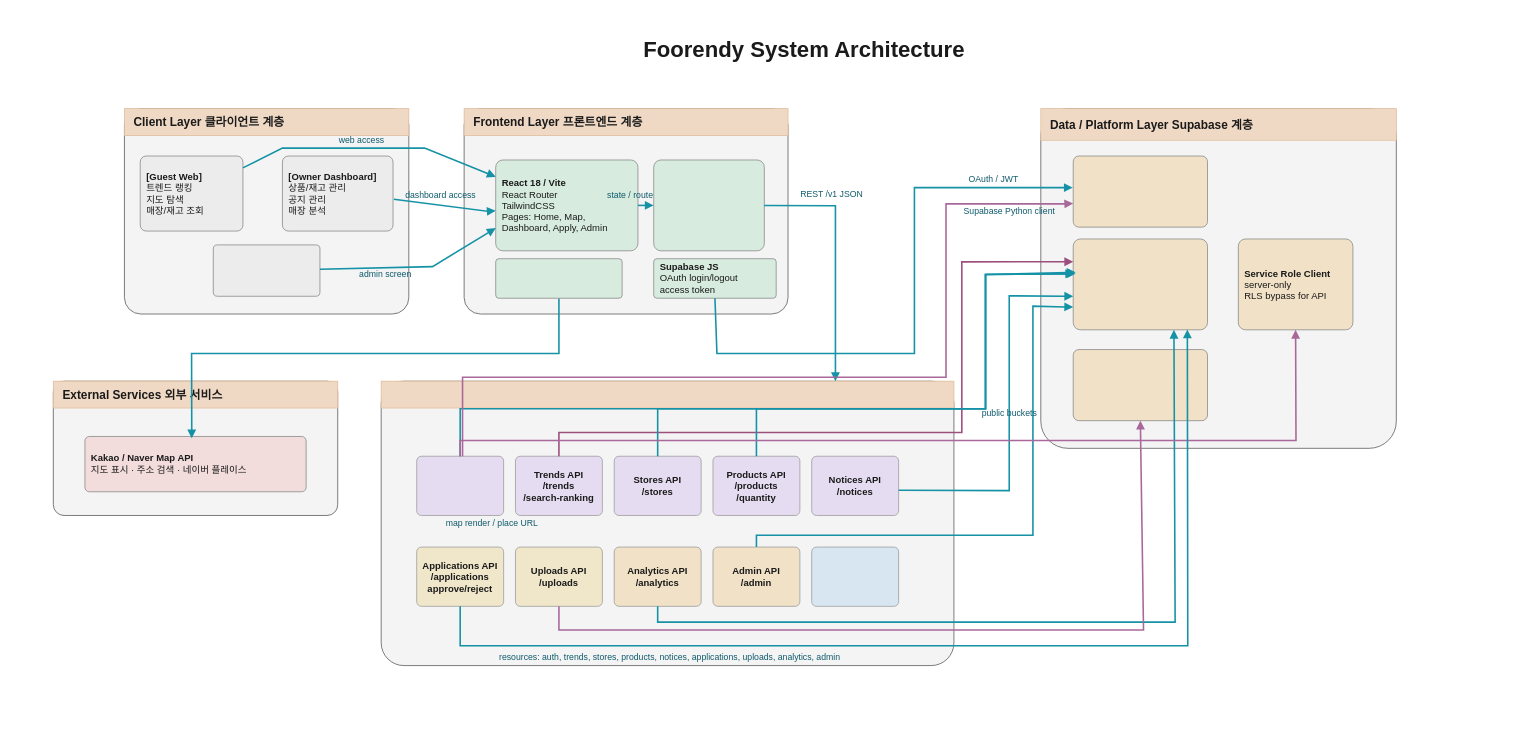
Image size: 1528x754. Some labels were removed from this diagram. Here are the shapes that lost their labels. From the top down, the box of each, then its label:
(653, 159, 764, 251): API Client REST JSON Bearer token error/meta handling
(1072, 155, 1208, 227): Supabase Auth owners / admins JWT validation
(213, 244, 320, 296): [Admin UI] 입점 신청 심사 승인/반려
(495, 258, 622, 298): Naver Map Client map rendering markers / popup
(1072, 238, 1208, 330): PostgreSQL 9 tables stores, products, trends applications, notices, logs
(380, 380, 954, 408): Backend API Layer FastAPI / REST API
(1072, 349, 1208, 421): Supabase Storage business-licenses product-images
(416, 455, 504, 515): Auth API /auth/me DELETE /auth/me
(811, 546, 899, 606): Common Core deps/responses Pydantic
